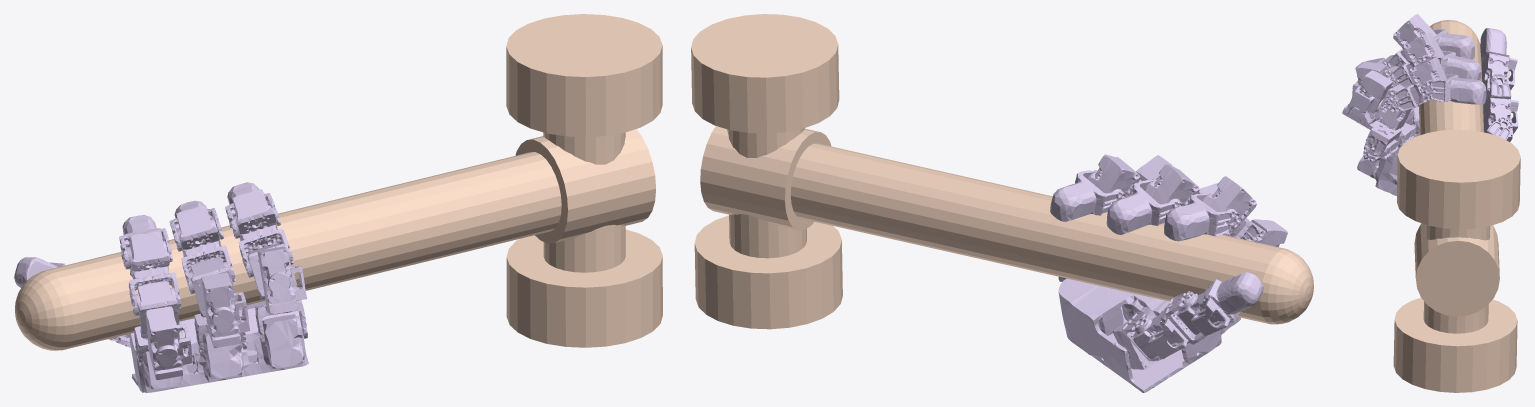
The model's file is cd186a2c06183e-closed.glb.
3 views of the same model, side by side, from view 1: azimuth 30°, elevation 25°; view 2: azimuth 150°, elevation 25°; view 3: azimuth 270°, elevation 25° (orthographic). The views are drawn at different scales.
Visible parts, largest first — view 1: world, LEAP_hand; view 2: world, LEAP_hand; view 3: world, LEAP_hand.
Boxes of the visible parts, bbox=[...] form: world: bbox=[15, 14, 662, 350]; LEAP_hand: bbox=[14, 182, 308, 392]; world: bbox=[691, 14, 1313, 329]; LEAP_hand: bbox=[1050, 154, 1287, 392]; world: bbox=[1393, 20, 1520, 392]; LEAP_hand: bbox=[1342, 14, 1518, 195].
Bounding box in the file's own units: 0.5379 × 0.2183 × 0.1654.
